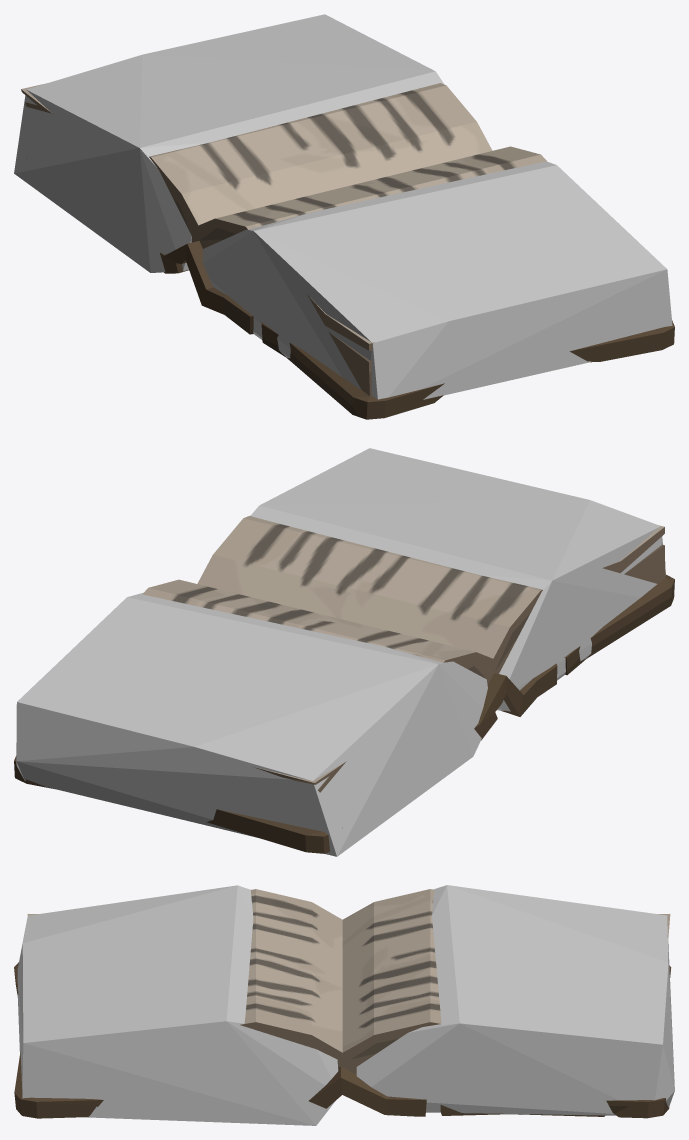
File: SM_Item_Spellbook_Open_05.fbx
3 views of the same model, one above another, from view 1: azimuth 30°, elevation 25°; view 2: azimuth 150°, elevation 25°; view 3: azimuth 270°, elevation 25° (orthographic). The views are drawn at different scales.
Parts seen in each view (by area): view 1: SM_Item_Spellbook_Open_05_ConvexHulls, SM_Item_Spellbook_Open_05; view 2: SM_Item_Spellbook_Open_05_ConvexHulls, SM_Item_Spellbook_Open_05; view 3: SM_Item_Spellbook_Open_05_ConvexHulls, SM_Item_Spellbook_Open_05.
Part boxes in pixels (x1,y1,x2,y2): SM_Item_Spellbook_Open_05_ConvexHulls: (14, 14, 672, 399); SM_Item_Spellbook_Open_05: (21, 83, 674, 419); SM_Item_Spellbook_Open_05_ConvexHulls: (16, 448, 665, 856); SM_Item_Spellbook_Open_05: (14, 515, 674, 853); SM_Item_Spellbook_Open_05_ConvexHulls: (17, 885, 674, 1125); SM_Item_Spellbook_Open_05: (14, 889, 671, 1118).
Bounding box in the file's own units: 28.77 × 54.7 × 9.1.
2 materials, 1 textured.
